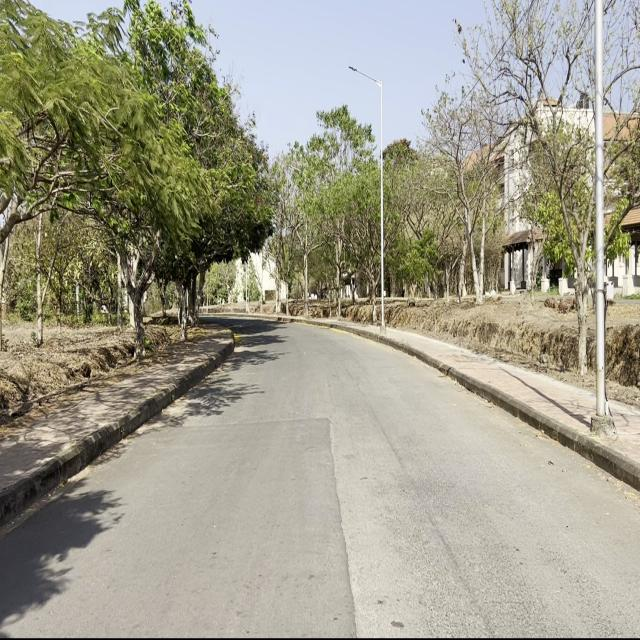Road: (0, 316, 640, 640)
